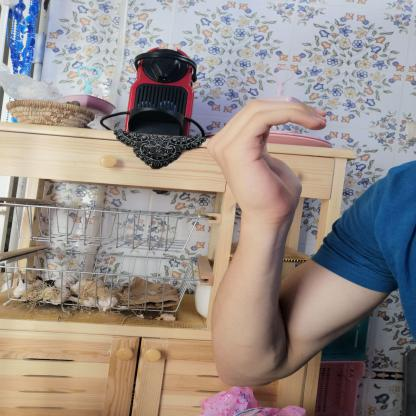HAA: (190, 87, 342, 221)
